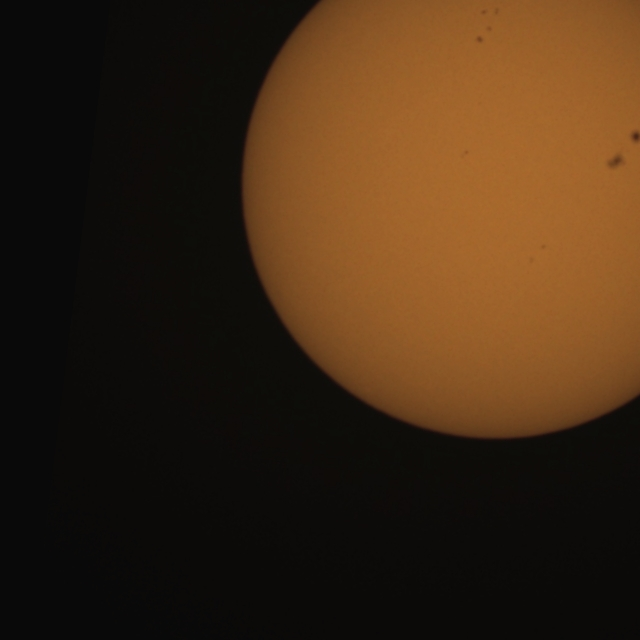sunspot: (604, 152, 628, 172), (474, 24, 492, 44), (480, 6, 500, 17), (628, 128, 640, 146), (474, 35, 484, 45), (485, 24, 493, 34), (493, 6, 500, 17), (528, 255, 535, 265), (462, 149, 470, 157), (480, 8, 487, 16), (540, 243, 548, 250)
